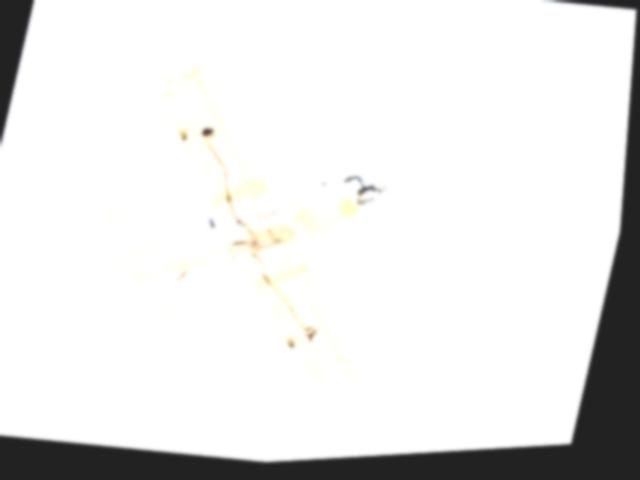uav: (56, 35, 437, 418)
